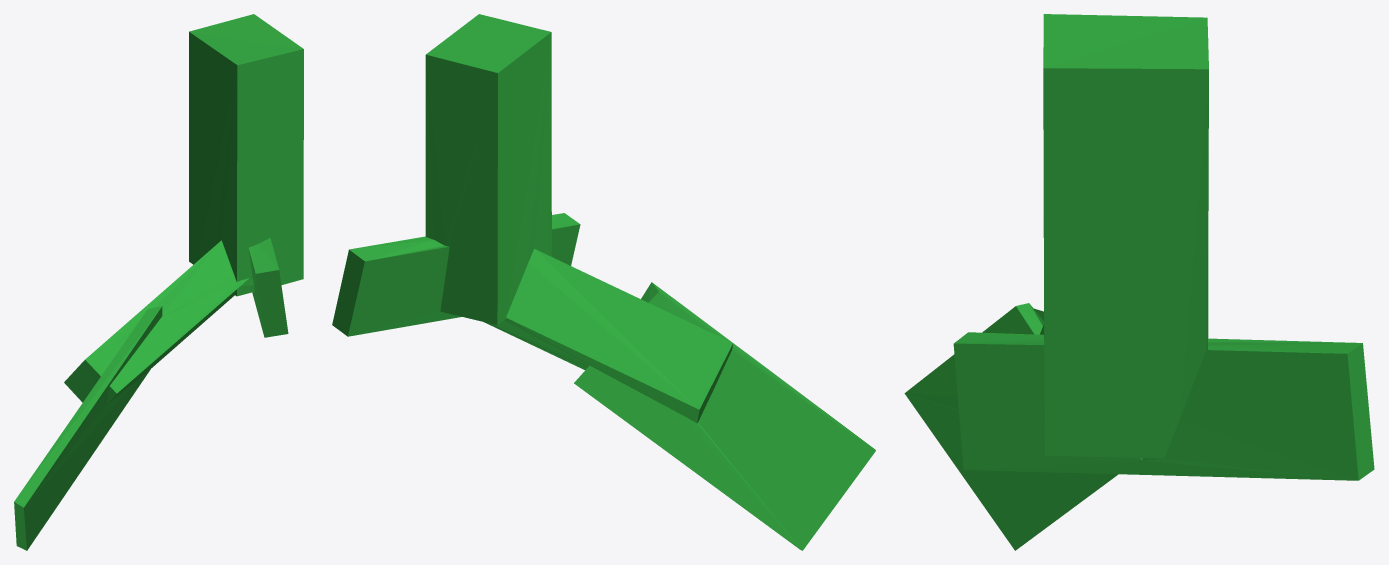
3 views of the same model, side by side, from view 1: azimuth 30°, elevation 25°; view 2: azimuth 150°, elevation 25°; view 3: azimuth 270°, elevation 25° (orthographic). The views are drawn at different scales.
Parts seen in each view (by area): view 1: 660_Cube.2651; view 2: 660_Cube.2651; view 3: 660_Cube.2651.
Boxes of the visible parts, box(x1,y1,x2,y2) form: 660_Cube.2651: box(14, 14, 303, 550); 660_Cube.2651: box(332, 14, 875, 550); 660_Cube.2651: box(904, 14, 1374, 550).
Bounding box in the file's own units: 19.95 × 22.16 × 13.17.
